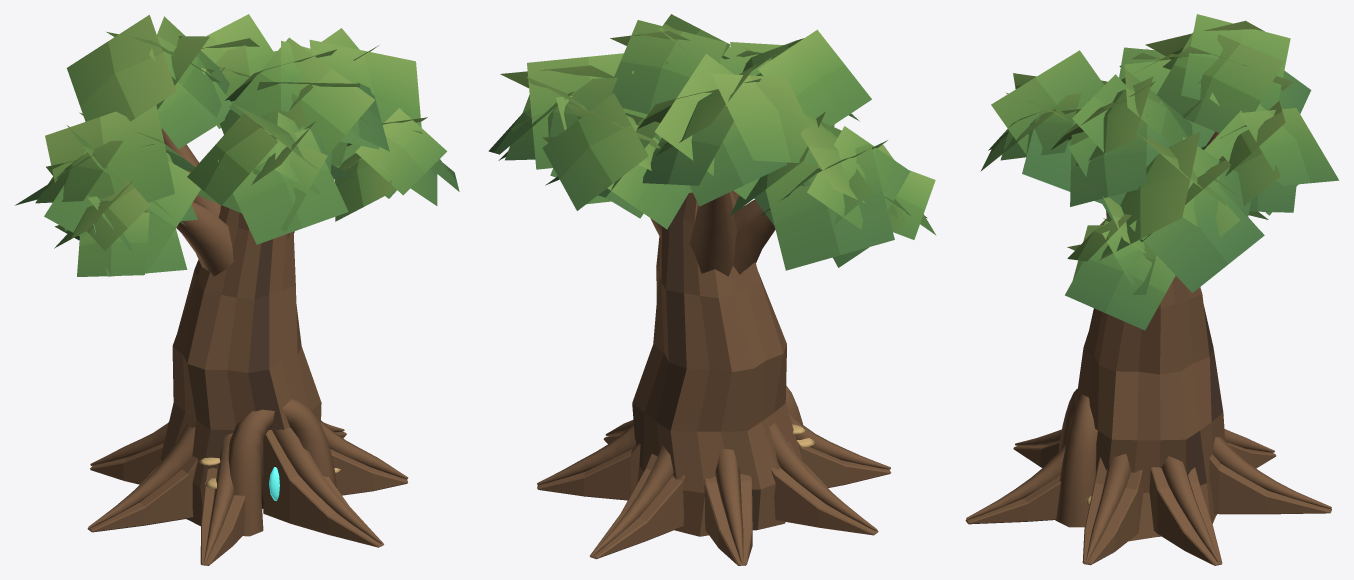
Rendered from elder_mosstree.glb.
The picture shows the model from 3 angles, left to right: view 1: azimuth 30°, elevation 25°; view 2: azimuth 150°, elevation 25°; view 3: azimuth 270°, elevation 25°; orthographic projection. The views are drawn at different scales.
Parts seen in each view (by area): view 1: Foliage_accepted_leaf_atlas_export, Pigment_79583d; view 2: Foliage_accepted_leaf_atlas_export, Pigment_79583d; view 3: Foliage_accepted_leaf_atlas_export, Pigment_79583d.
Part boxes in pixels (<box>): Foliage_accepted_leaf_atlas_export: <box>15,14,459,276</box>; Pigment_79583d: <box>87,128,408,565</box>; Foliage_accepted_leaf_atlas_export: <box>488,14,936,270</box>; Pigment_79583d: <box>537,190,891,565</box>; Foliage_accepted_leaf_atlas_export: <box>980,14,1339,330</box>; Pigment_79583d: <box>965,131,1331,565</box>.
Size of the model in its own units: 13.81 by 14.71 by 10.8.
